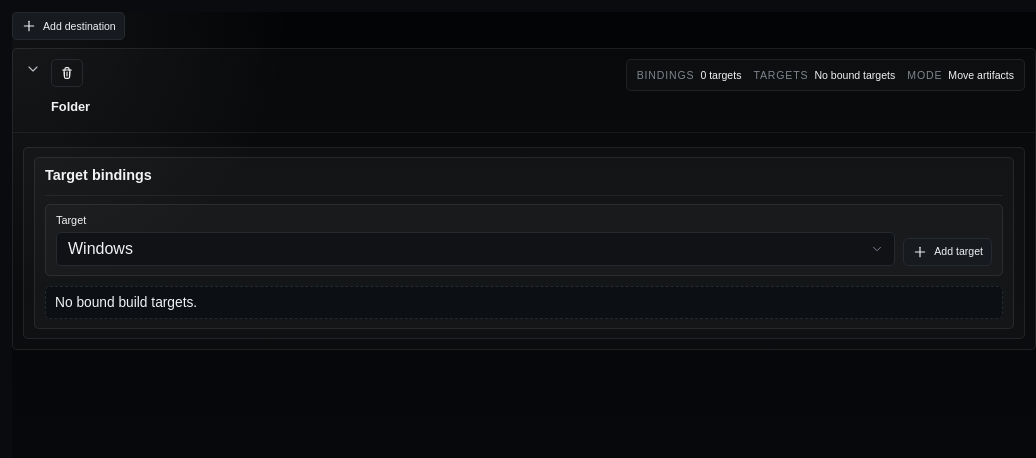
Test: PublishDestinationsEditor interactions › binds the default available target without requiring a manual selection change
The width and height of the screenshot is (1036, 458).
Click the button "Add target" at (948, 252), box [903,238,992,266]
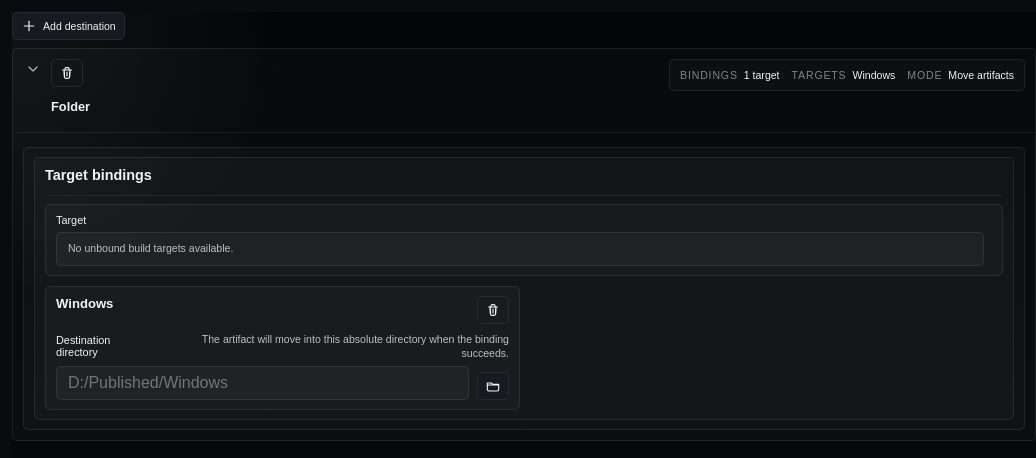
Now the text "No bound build targets." is gone
Now the button named "Remove binding for Windows" is shown, box [477,296,509,324]
Now the text "No unbound build targets available." is shown, box [56,232,984,266]
